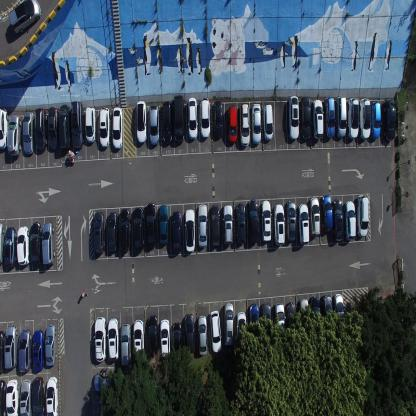car: (144, 202, 158, 250), (297, 298, 310, 348), (7, 112, 21, 157), (71, 101, 84, 149), (4, 324, 18, 368), (94, 315, 107, 362), (18, 327, 31, 374), (15, 224, 29, 267), (173, 93, 185, 143), (238, 101, 251, 147), (132, 318, 144, 367), (210, 308, 223, 353), (383, 97, 396, 142), (249, 302, 261, 350), (274, 302, 286, 350), (285, 302, 297, 350), (29, 220, 41, 268), (42, 222, 55, 266), (92, 372, 119, 393), (322, 293, 334, 340), (119, 207, 131, 253), (93, 210, 105, 256), (297, 203, 310, 245), (96, 393, 122, 414), (34, 108, 47, 150), (184, 208, 196, 253), (260, 198, 272, 243), (132, 207, 144, 252), (159, 318, 171, 363), (107, 316, 119, 361), (300, 95, 312, 140), (288, 95, 300, 140), (44, 323, 56, 368), (32, 328, 44, 373), (261, 302, 272, 351), (310, 295, 321, 344), (344, 200, 357, 241), (273, 203, 285, 247), (332, 198, 344, 242), (356, 194, 368, 238), (22, 109, 33, 157), (4, 226, 16, 270), (45, 375, 58, 415), (31, 375, 44, 415), (248, 198, 259, 245), (199, 96, 211, 139), (323, 96, 335, 139), (58, 103, 69, 149), (148, 104, 160, 146), (359, 96, 371, 138), (197, 203, 208, 248), (171, 210, 182, 255), (161, 100, 172, 145), (120, 322, 131, 367), (286, 198, 297, 242), (348, 96, 359, 140), (333, 293, 344, 337), (47, 105, 58, 149), (321, 193, 333, 233), (158, 202, 169, 245), (136, 100, 147, 143), (112, 107, 123, 150), (224, 301, 234, 348), (147, 313, 157, 360), (228, 102, 239, 144), (309, 194, 320, 236), (19, 378, 31, 416), (312, 98, 323, 139), (236, 311, 246, 356), (107, 209, 117, 254), (6, 378, 18, 415), (236, 202, 246, 246), (210, 204, 220, 248), (184, 312, 194, 356), (262, 104, 274, 140), (188, 96, 198, 139), (251, 102, 261, 145), (336, 95, 346, 138), (222, 203, 232, 245), (197, 314, 207, 356), (172, 322, 182, 364), (85, 105, 96, 143), (99, 106, 109, 147), (0, 106, 9, 151), (371, 100, 381, 140), (214, 98, 223, 138), (0, 329, 5, 374), (0, 378, 5, 416), (0, 220, 4, 266)
